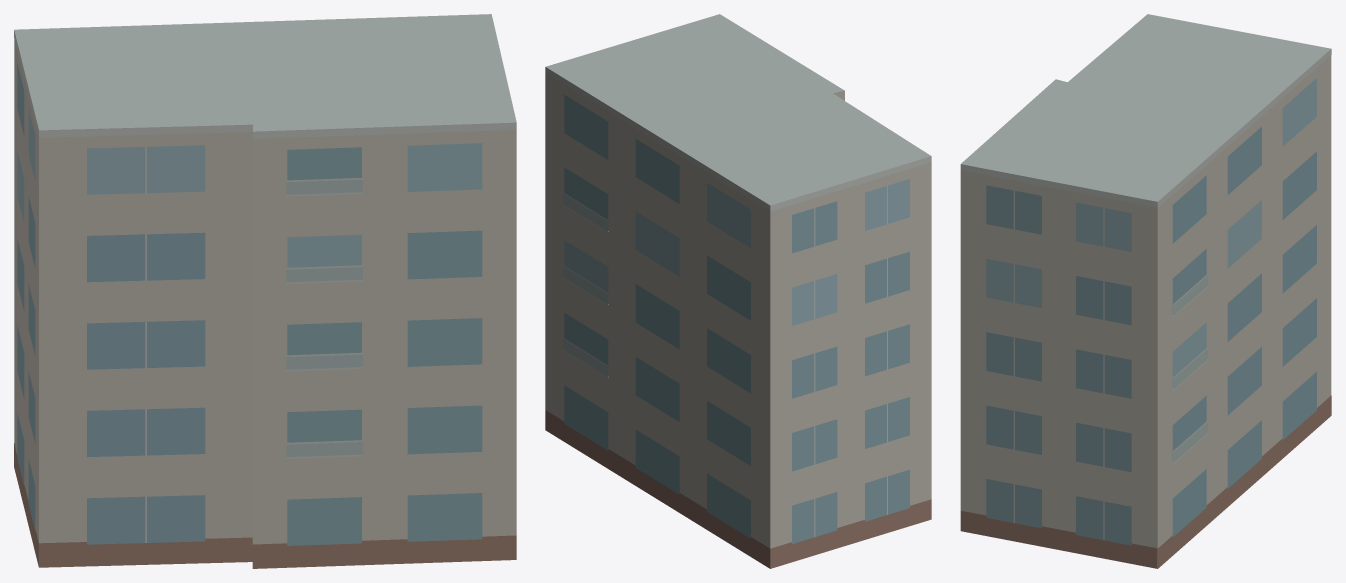
File: survey-upis-32948716.glb
3 views of the same model, side by side, from view 1: azimuth 30°, elevation 25°; view 2: azimuth 150°, elevation 25°; view 3: azimuth 270°, elevation 25° (orthographic). The views are drawn at different scales.
Parts seen in each view (by area): view 1: survey-upis-32948716.tmp; view 2: survey-upis-32948716.tmp; view 3: survey-upis-32948716.tmp.
Part boxes in pixels (bbox=[...]): survey-upis-32948716.tmp: bbox=[14, 14, 516, 568]; survey-upis-32948716.tmp: bbox=[545, 14, 931, 568]; survey-upis-32948716.tmp: bbox=[960, 14, 1331, 568].
Size of the model in its own units: 15.87 by 14.45 by 13.24.
